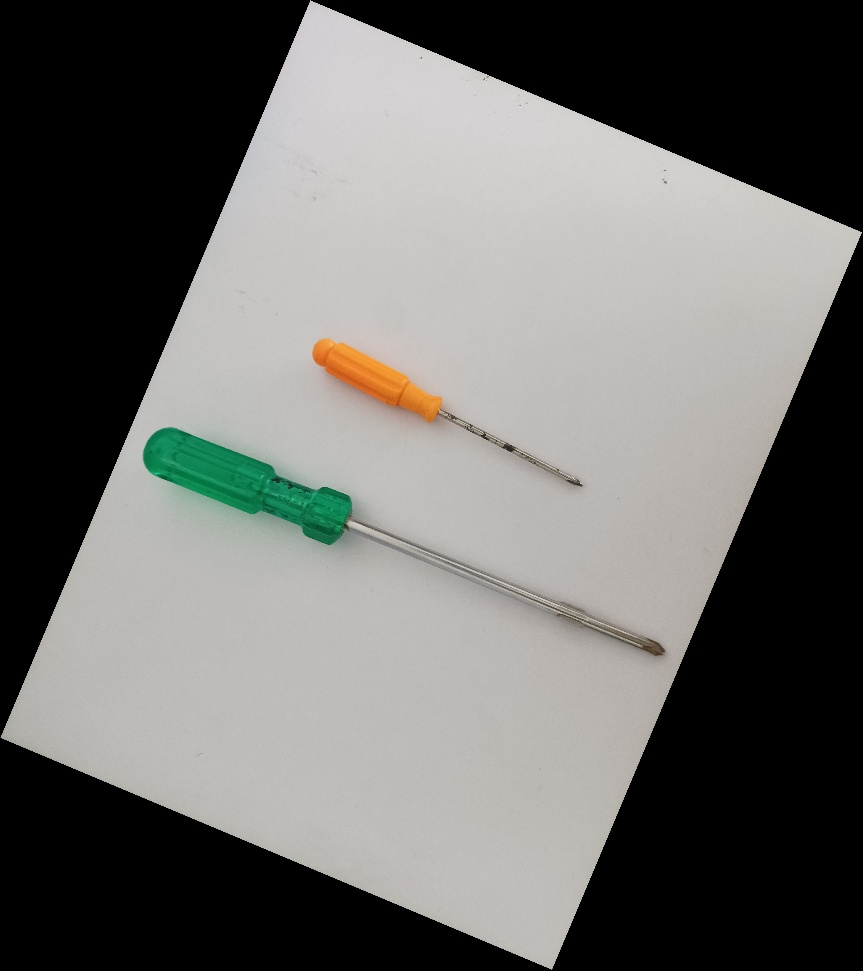screwdriver: (140, 424, 668, 660), (310, 333, 589, 491)
